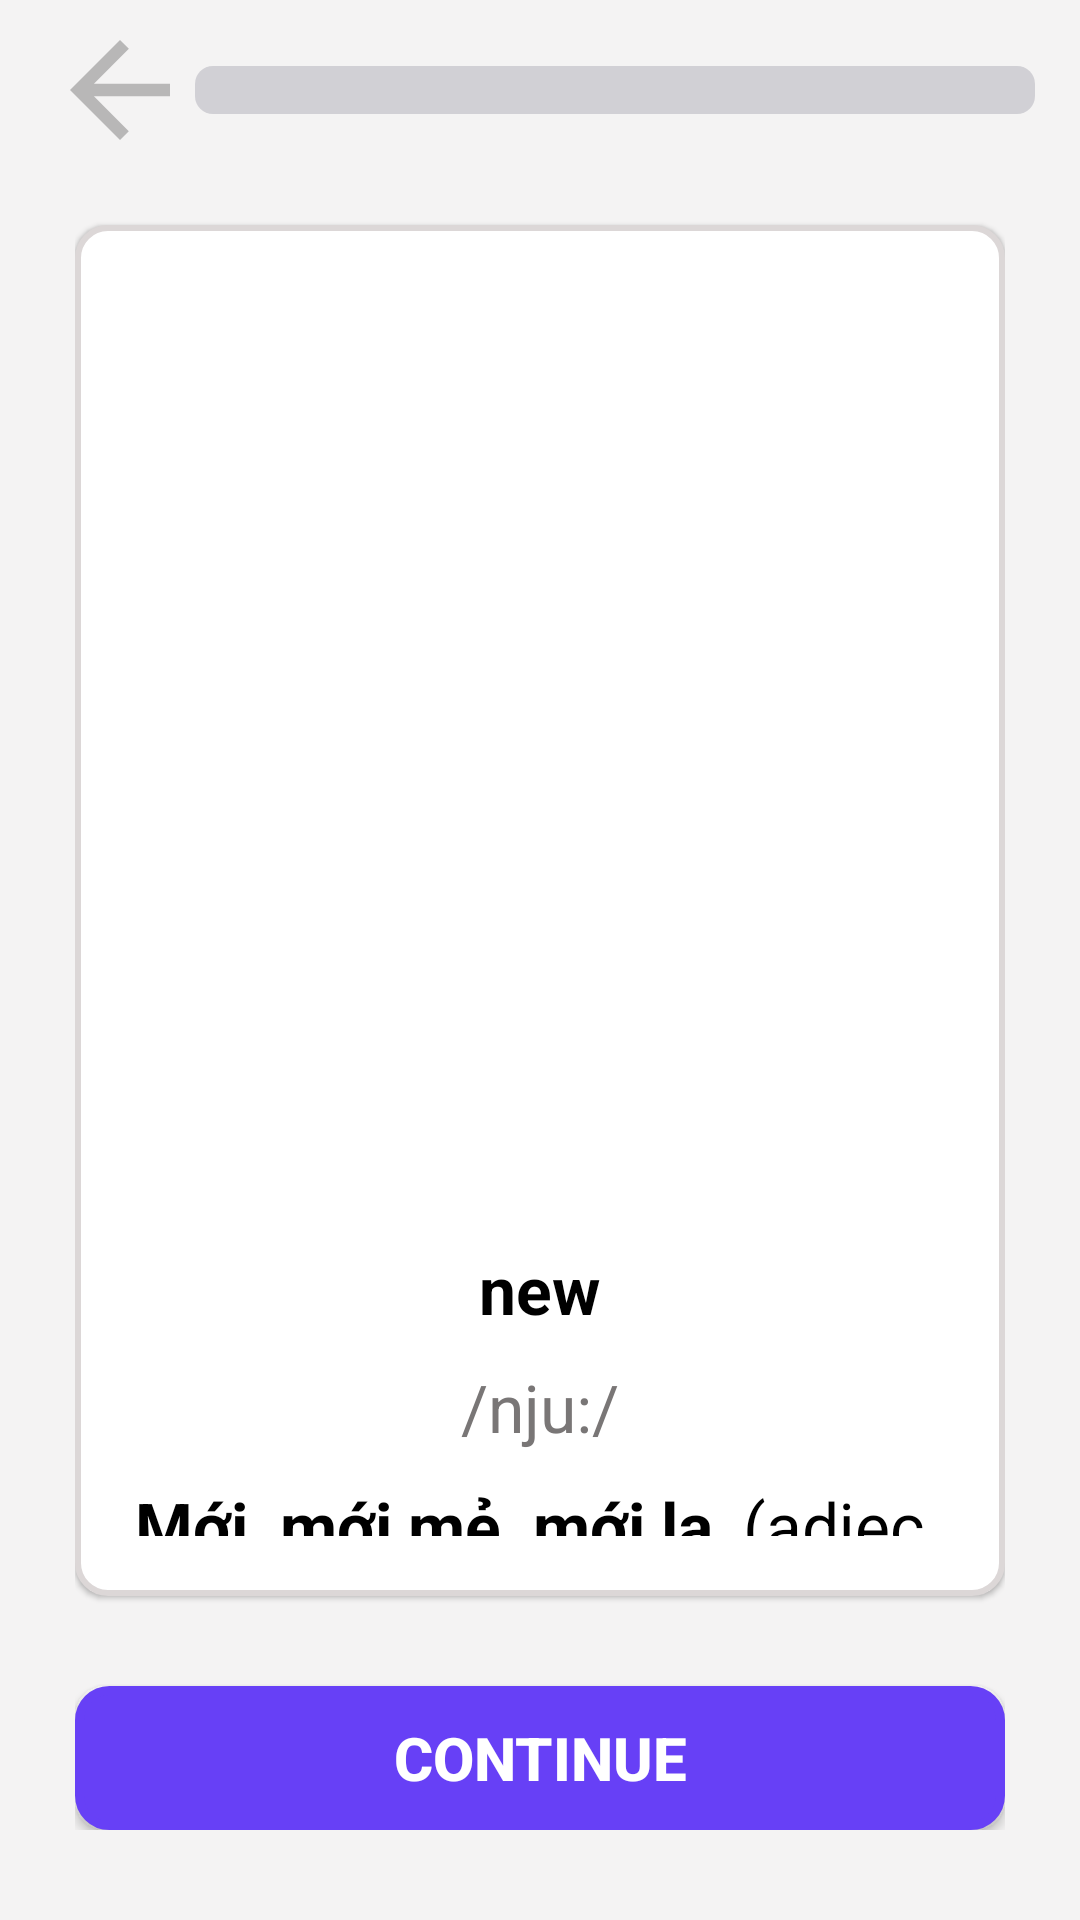

Icon bounding boxes for this 1080*1920 phone screenshot, format [left=x1, top=y1, right=x2, bottom=y2]:
arrow back: [left=70, top=40, right=170, bottom=140]
